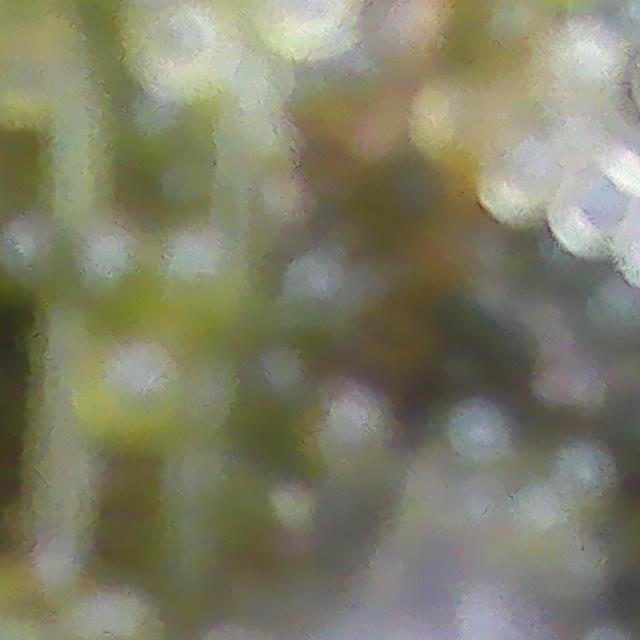SeaGrape: (74, 344, 185, 457), (127, 0, 237, 101), (154, 230, 249, 342), (547, 155, 640, 259), (534, 17, 627, 108), (482, 140, 567, 218), (442, 395, 517, 471), (280, 246, 353, 317)
